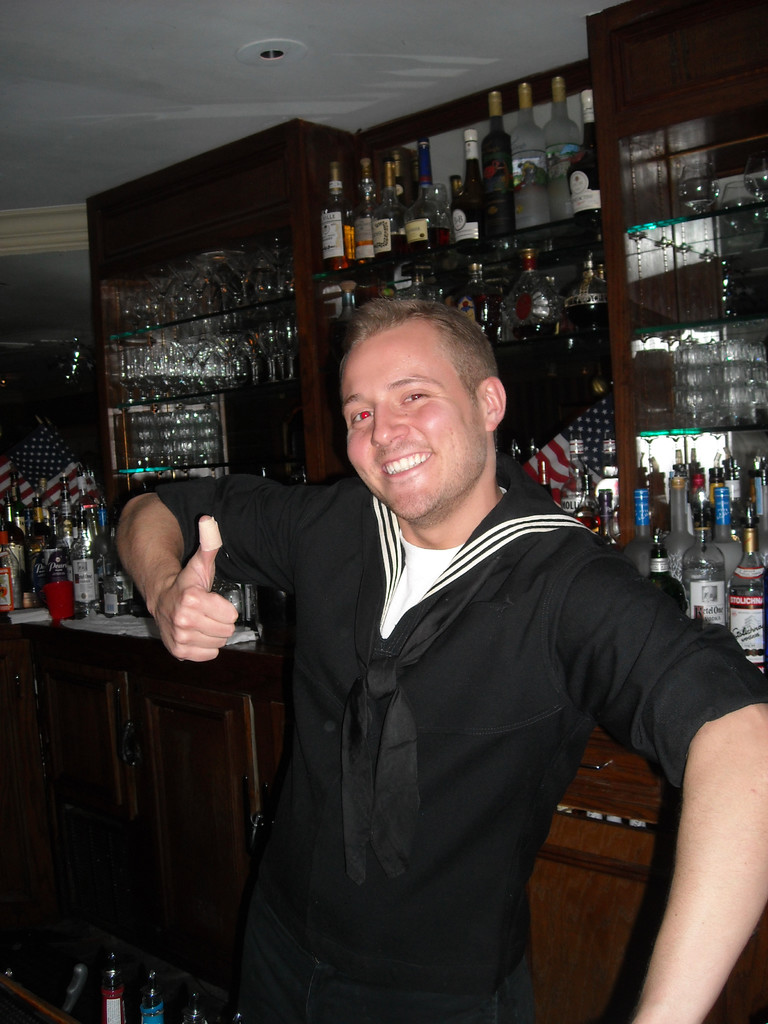Human_hand: (156, 518, 237, 663)
